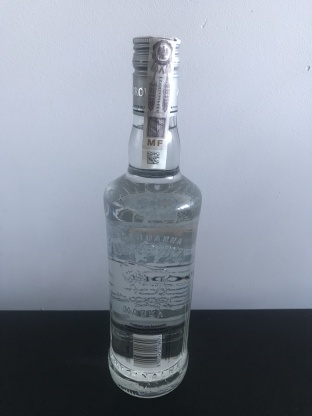nakretka: (129, 32, 183, 119)
